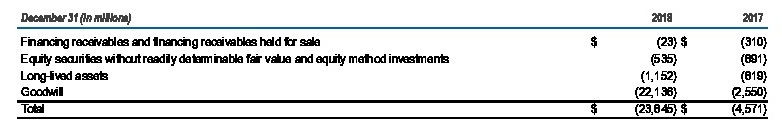table: (0, 0, 782, 131)
